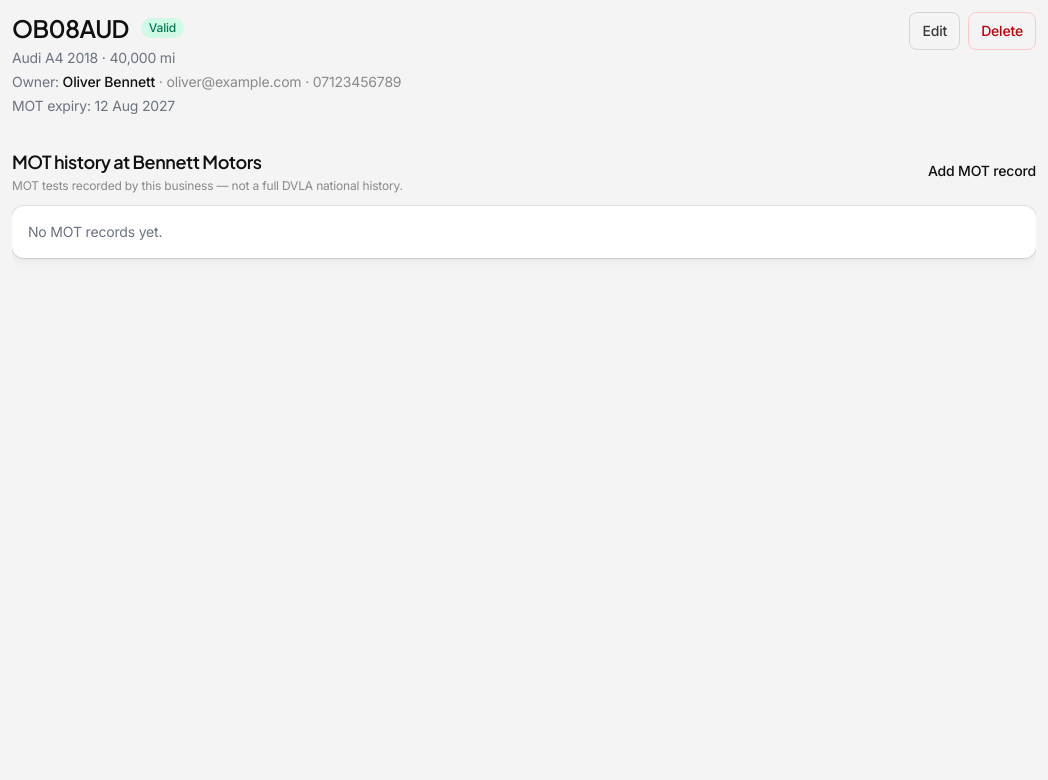
VehicleDetail — adding an MOT record › shows the server’s field errors against the dates
Check: the heading "OB08AUD" is shown, box 12,12 -> 129,44
Step 1. Click the button "Add MOT record" → (982, 171), box 928,161 -> 1036,181
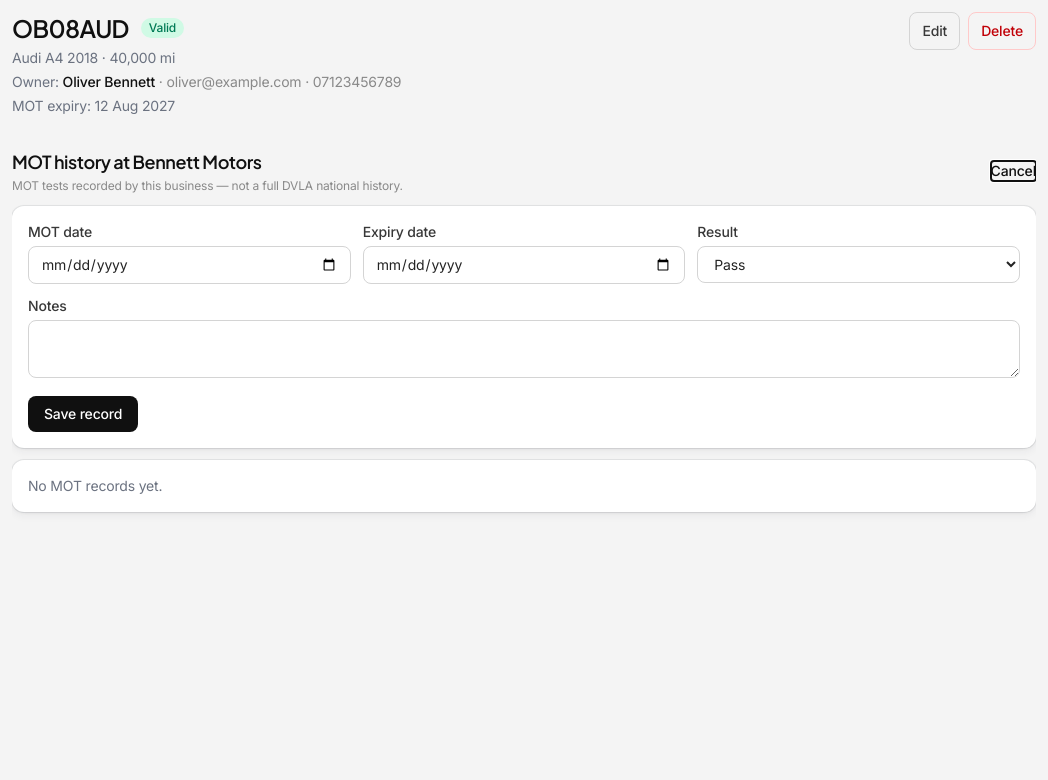
Step 2. Type "2026-06-01" into the date field labelled "MOT date" → (189, 265), box 28,246 -> 351,284
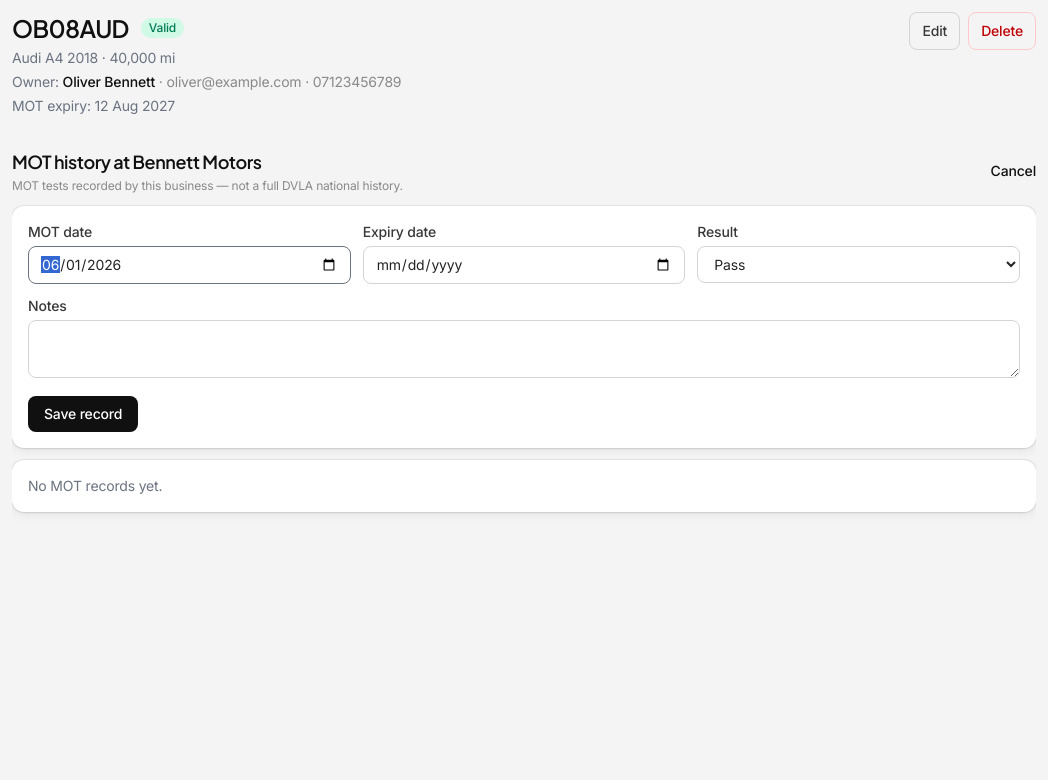
Step 3. Type "2025-06-01" into the date field labelled "Expiry date" → (524, 265), box 363,246 -> 685,284
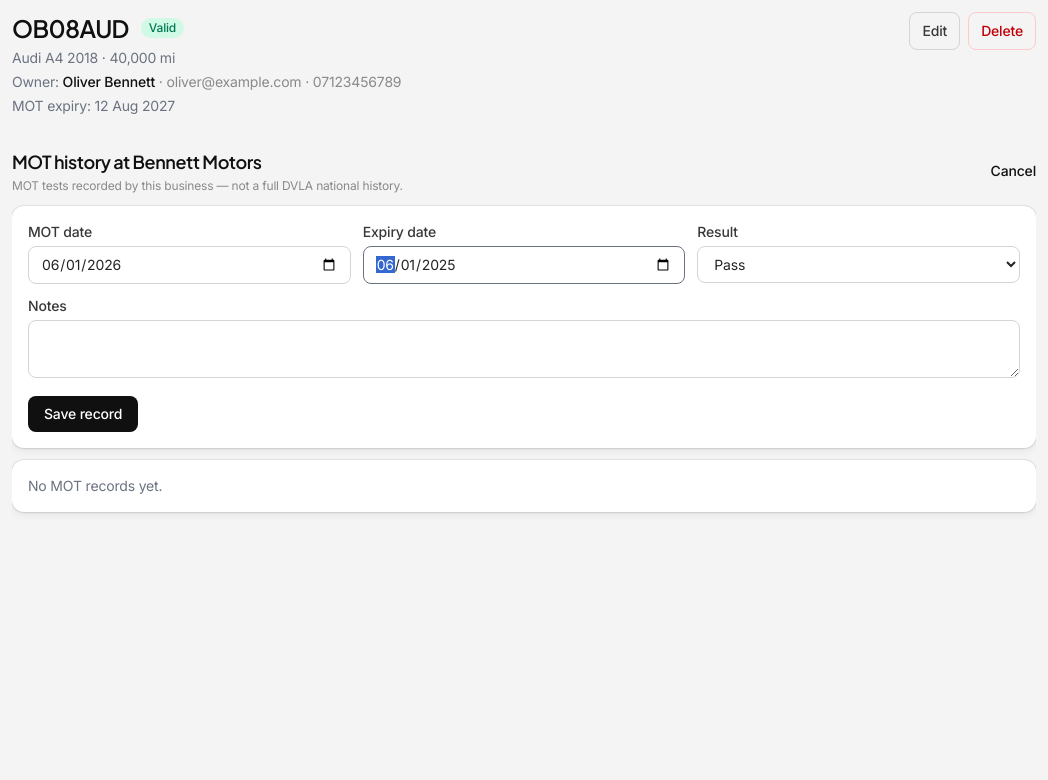
Step 4. Click the button "Save record" → (83, 414), box 28,396 -> 138,432
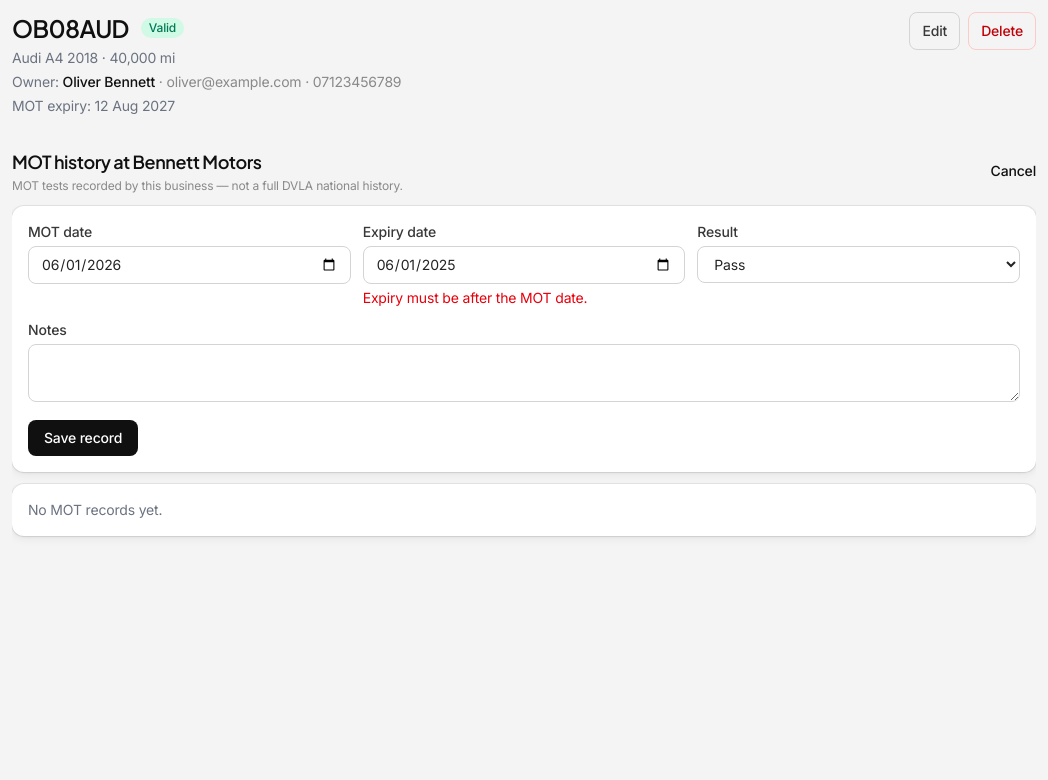
Check: the text "Expiry must be after the MOT date." is shown, box 363,289 -> 588,306
